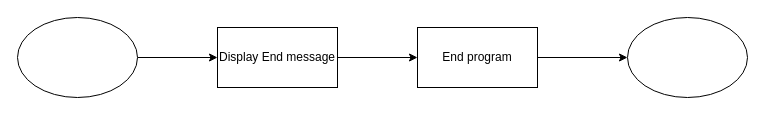
Some shapes in this 765 by 115 pixel diagram are drawn without their labels. Each missing label, with the centre of its shape:
End: point 687,57
Start: point 77,57
